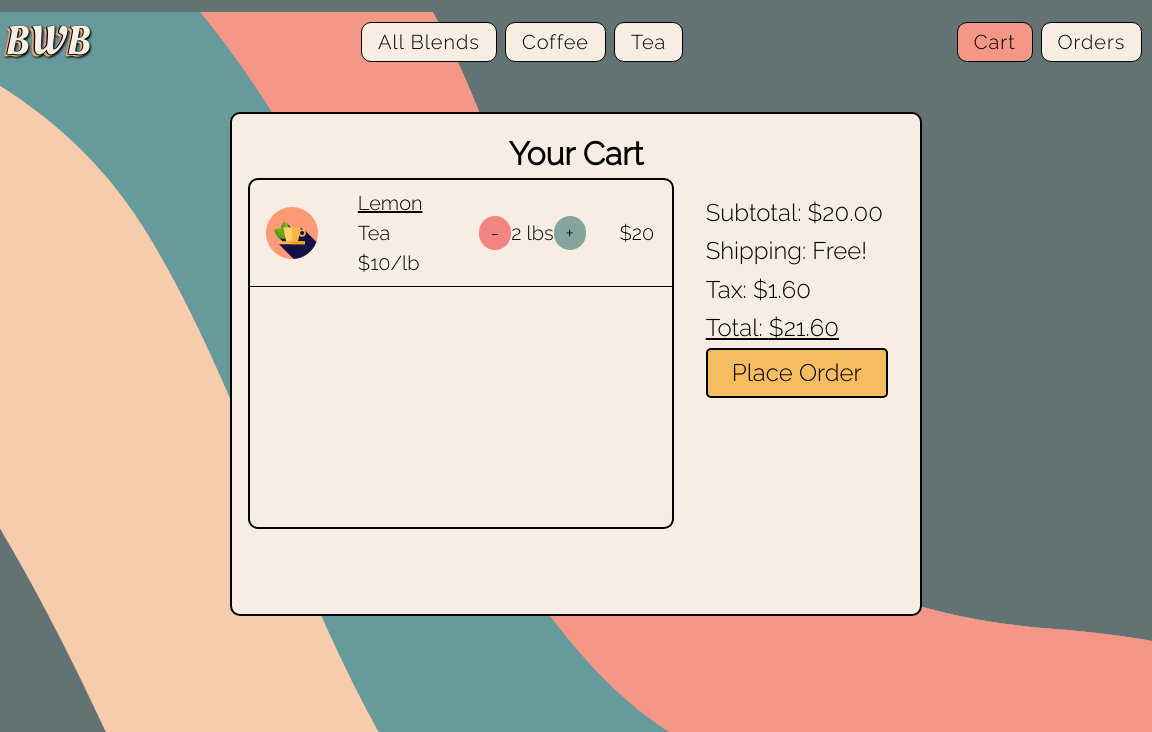
Cart › should calculate the totals correctly
The width and height of the screenshot is (1152, 732).
Click the button with class "cart-counter--decrease-btn" at (496, 233), box [479, 216, 512, 249]
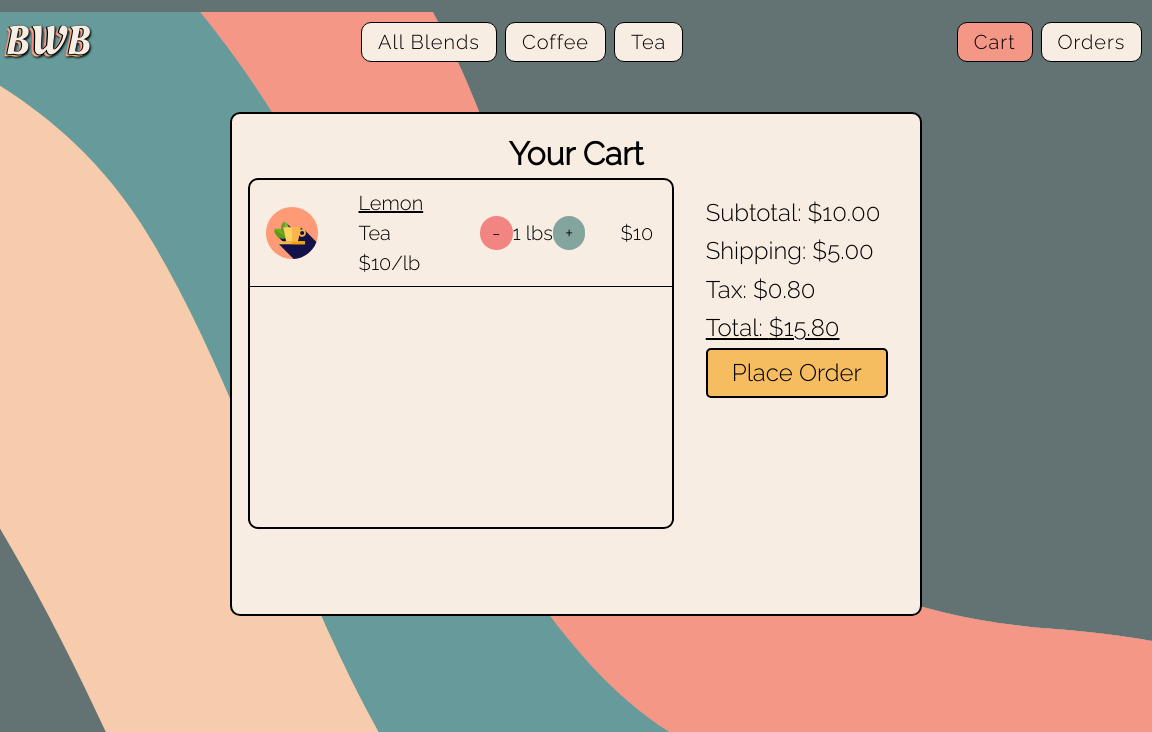
Result: the text with class "cart-totals--subtotal" shows "$10.00" at [808, 198, 881, 227]
Result: the text with class "cart-totals--shipping" shows "$5.00" at [812, 236, 873, 265]
Result: the text with class "cart-totals--tax" shows "$0.80" at [753, 275, 816, 304]
